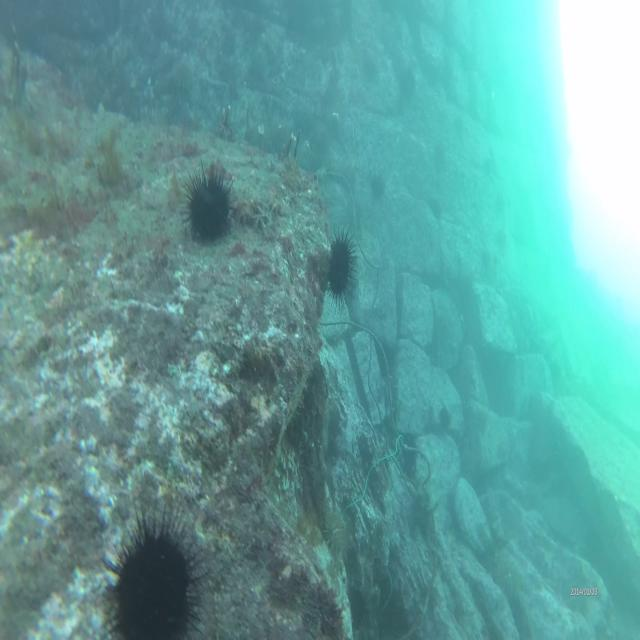echinus: (97, 510, 207, 640), (177, 161, 237, 241), (328, 220, 360, 311), (322, 504, 349, 555)
